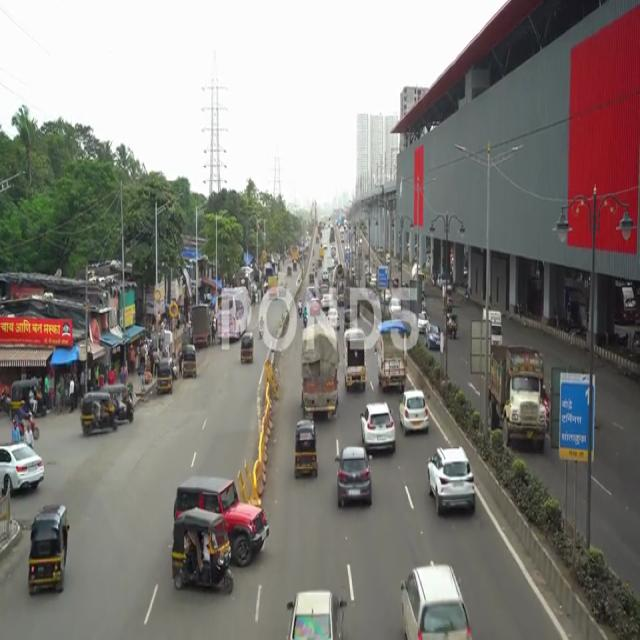car: (399, 560, 472, 640), (424, 448, 477, 520), (284, 590, 349, 640), (360, 399, 398, 455), (336, 447, 370, 504), (401, 394, 429, 432)
rikshaw: (172, 508, 237, 594), (27, 502, 73, 599), (82, 392, 121, 436), (291, 425, 318, 481)
truck: (492, 347, 546, 448), (302, 328, 338, 420), (374, 324, 406, 389), (343, 330, 368, 391)
